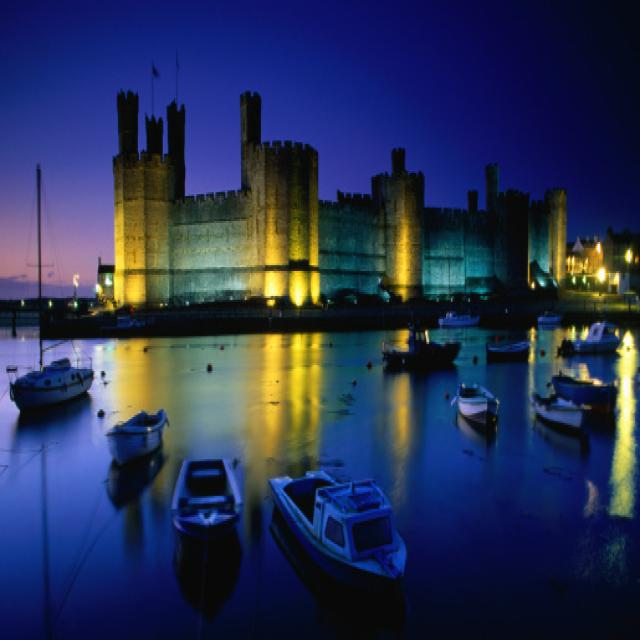Boat: (280, 456, 417, 616), (171, 427, 243, 564), (0, 340, 102, 427), (104, 382, 193, 481), (564, 352, 627, 444), (379, 327, 467, 392), (534, 373, 594, 466), (458, 382, 523, 454), (499, 315, 548, 381), (569, 319, 620, 363)
